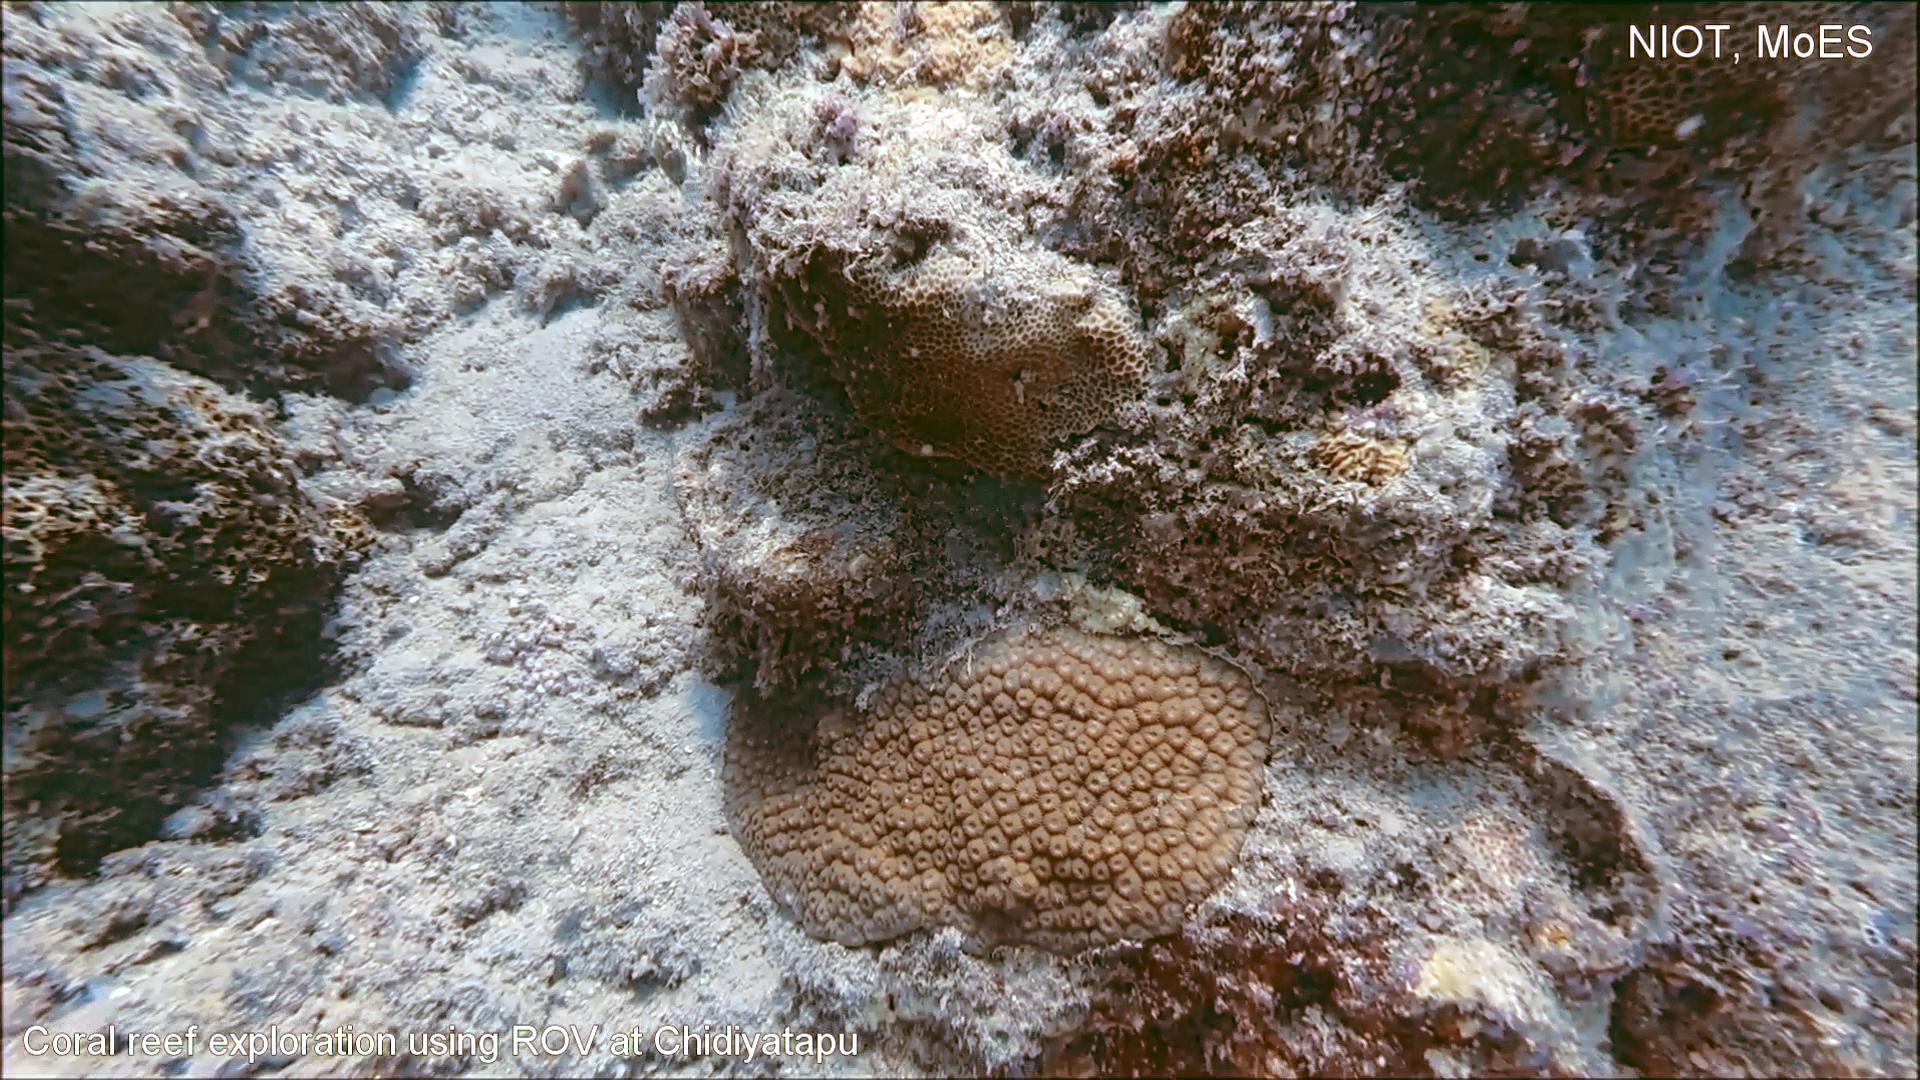Montastraea: (716, 588, 1282, 970)
